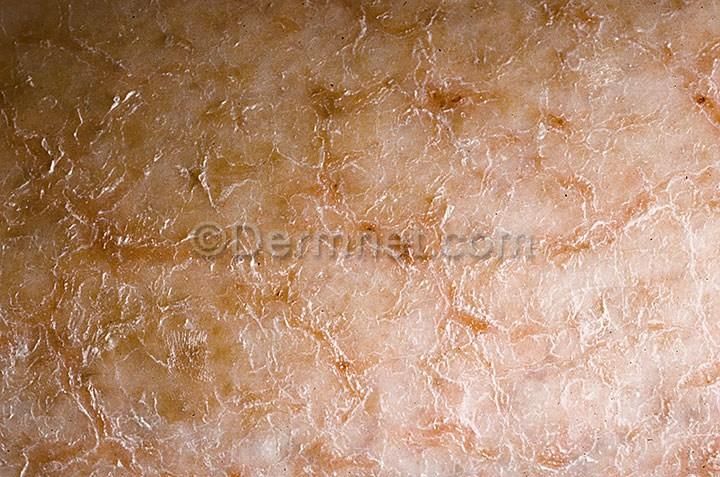Eczema: (22, 278, 397, 445), (245, 45, 598, 166)
